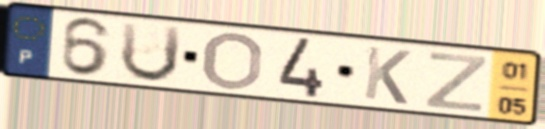4: (276, 35, 326, 100)
6: (59, 15, 113, 79)
K: (361, 44, 414, 108)
O: (198, 29, 266, 92)
U: (117, 19, 185, 85)
Z: (421, 50, 490, 115)
